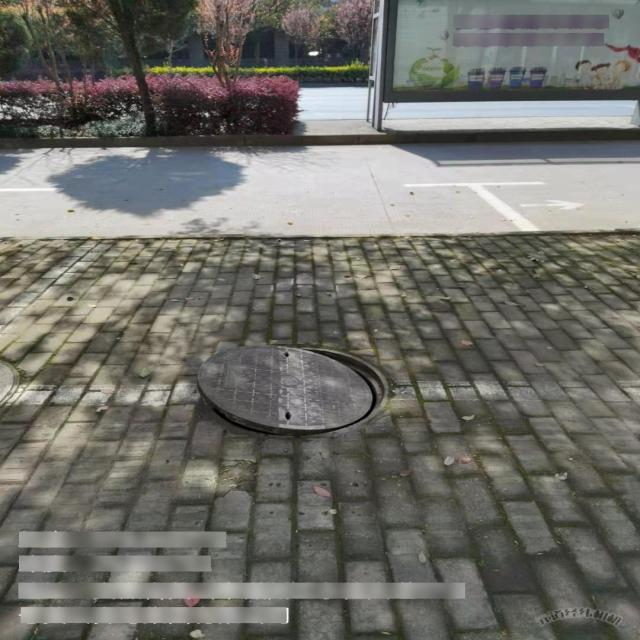Lose: (196, 344, 388, 436)
